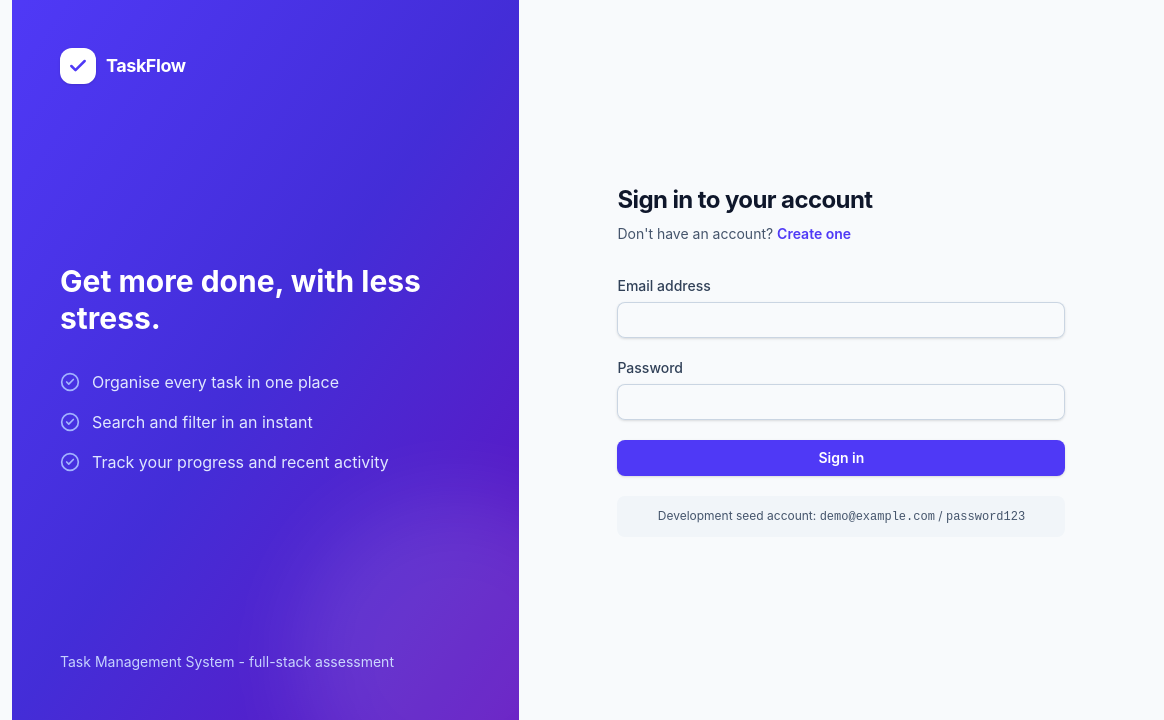
Test case: LoginPage › shows the generic error message on invalid credentials
Type "jane@example.com" into the field labelled "Email address" at (841, 320), box x1=617 y1=302 x2=1065 y2=338
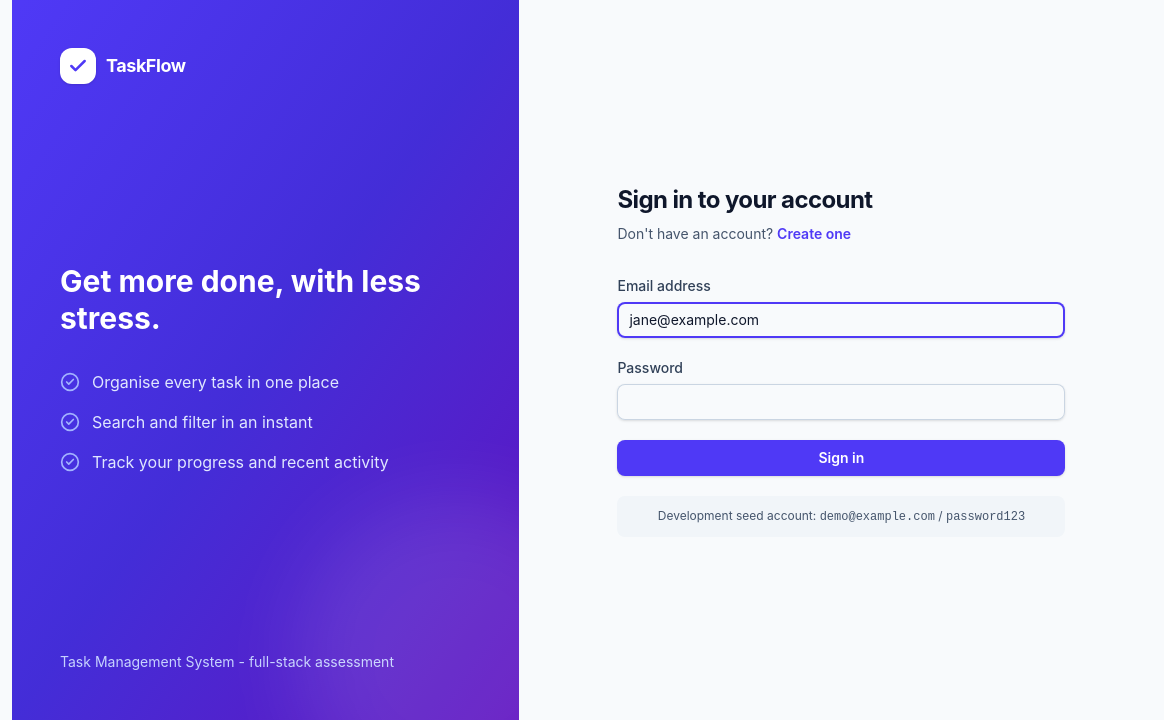
Type "wrong-password" into the password field labelled "Password" at (841, 402), box x1=617 y1=384 x2=1065 y2=420
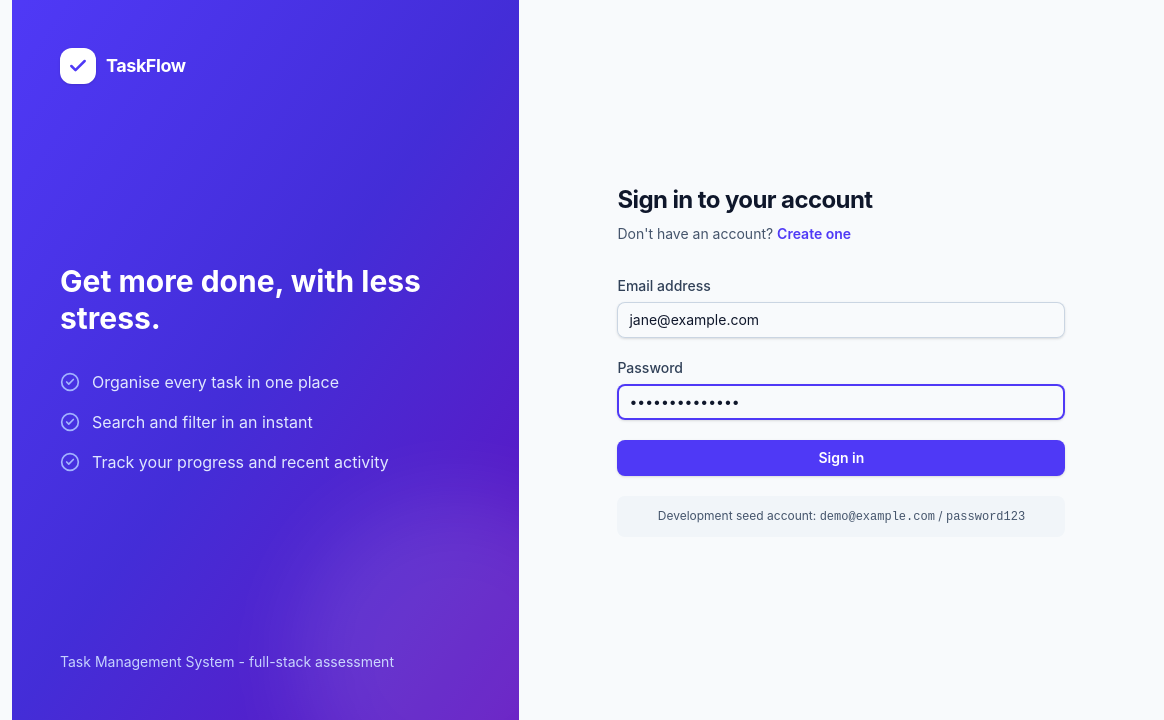
Click the button "Sign in" at (841, 458), box x1=617 y1=440 x2=1065 y2=476
(page scrolled)
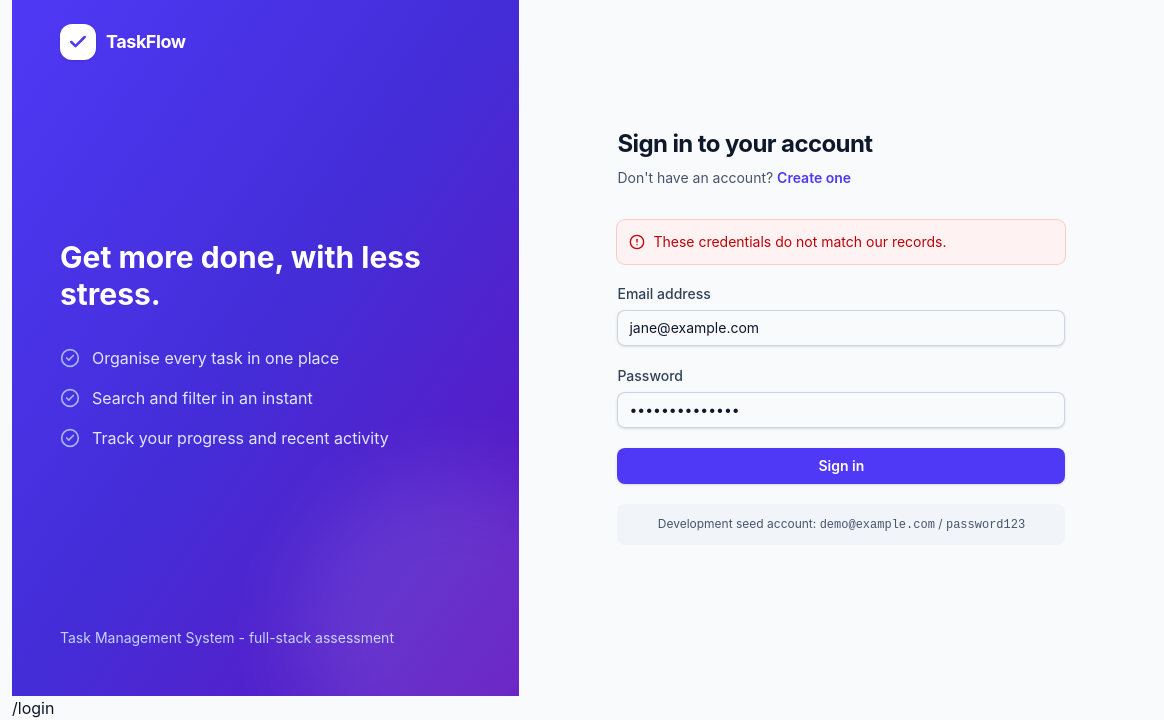
Expected: the text with test id "location" reads "/login", x1=12 y1=698 x2=54 y2=718
Expected: the message reads "These credentials do not match our records.", x1=653 y1=232 x2=946 y2=250
